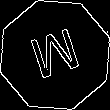M_S: (25, 23, 85, 87)
